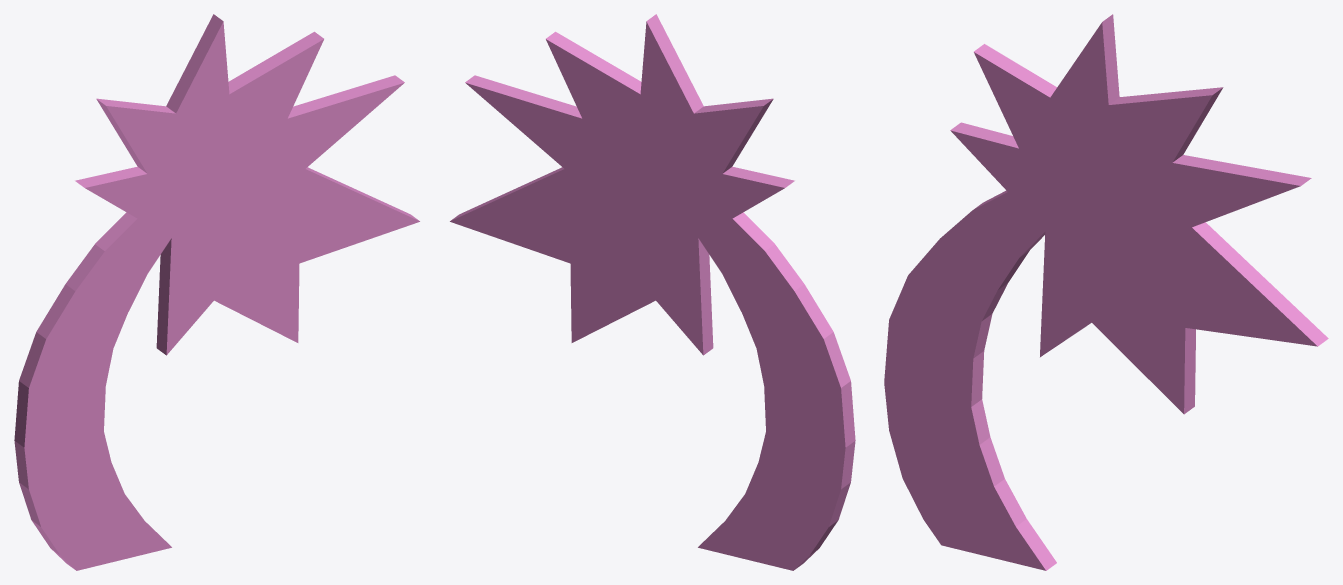
File: tree_goal.fbx
3 views of the same model, side by side, from view 1: azimuth 30°, elevation 25°; view 2: azimuth 150°, elevation 25°; view 3: azimuth 330°, elevation 25° (orthographic). The views are drawn at different scales.
Visible parts, largest first — view 1: tree_goal; view 2: tree_goal; view 3: tree_goal.
Boxes of the visible parts, <box> form: tree_goal: <box>14,14,419,570</box>; tree_goal: <box>450,14,855,570</box>; tree_goal: <box>884,14,1328,570</box>.
Size of the model in its own units: 22921 by 28411 by 1000.
